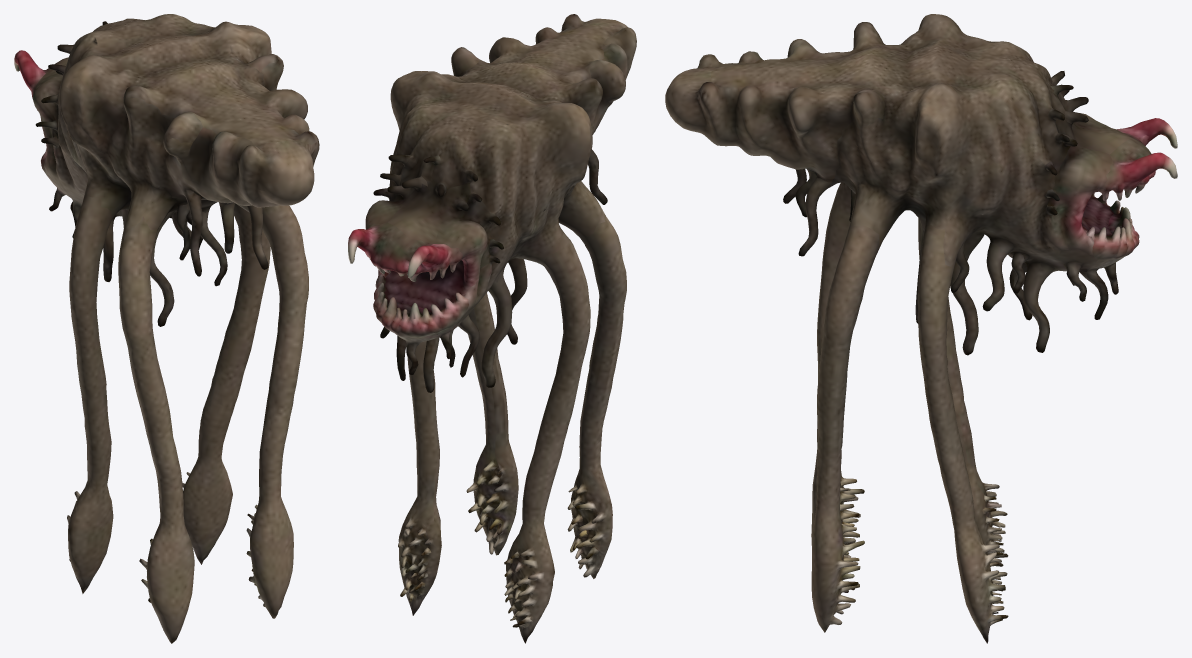
Rendered from MZ4250 - Balhannoth.glb.
The picture shows the model from 3 angles, left to right: view 1: azimuth 30°, elevation 25°; view 2: azimuth 150°, elevation 25°; view 3: azimuth 270°, elevation 25°; orthographic projection. The views are drawn at different scales.
Visible parts, largest first — view 1: ORGANIC BASE SPHERE.001; view 2: ORGANIC BASE SPHERE.001; view 3: ORGANIC BASE SPHERE.001.
Part boxes in pixels (x1=…): ORGANIC BASE SPHERE.001: x1=14, y1=14, x2=319, y2=643; ORGANIC BASE SPHERE.001: x1=348, y1=14, x2=636, y2=643; ORGANIC BASE SPHERE.001: x1=665, y1=14, x2=1177, y2=643.
Size of the model in its own units: 0.7733 by 1.96 by 1.62.
1 material, 1 textured.
